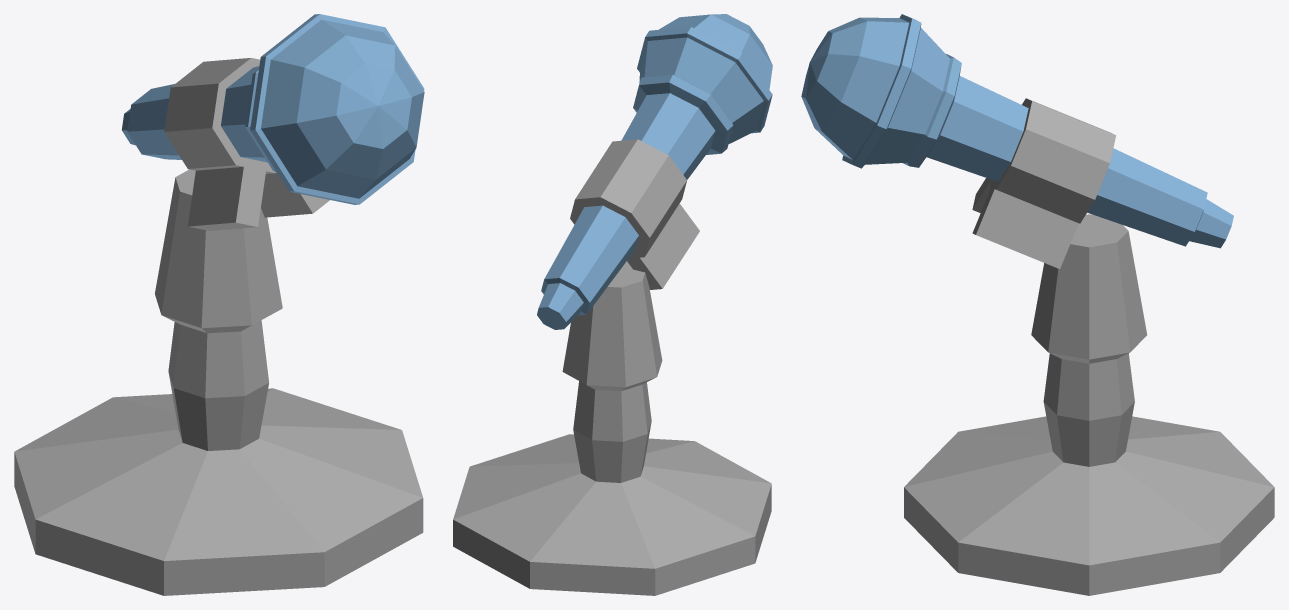
The model's file is MicSmall.fbx.
3 renders of one model, left to right at view 1: azimuth 30°, elevation 25°; view 2: azimuth 150°, elevation 25°; view 3: azimuth 270°, elevation 25°, orthographic. The views are drawn at different scales.
Parts seen in each view (by area): view 1: MikroSmall; view 2: MikroSmall; view 3: MikroSmall.
Boxes of the visible parts, left/top/right/bottom form: MikroSmall: left=14, top=14, right=424, bottom=595; MikroSmall: left=453, top=14, right=772, bottom=595; MikroSmall: left=801, top=14, right=1274, bottom=595.
Bounding box in the file's own units: 2.12 × 3.15 × 2.71.
